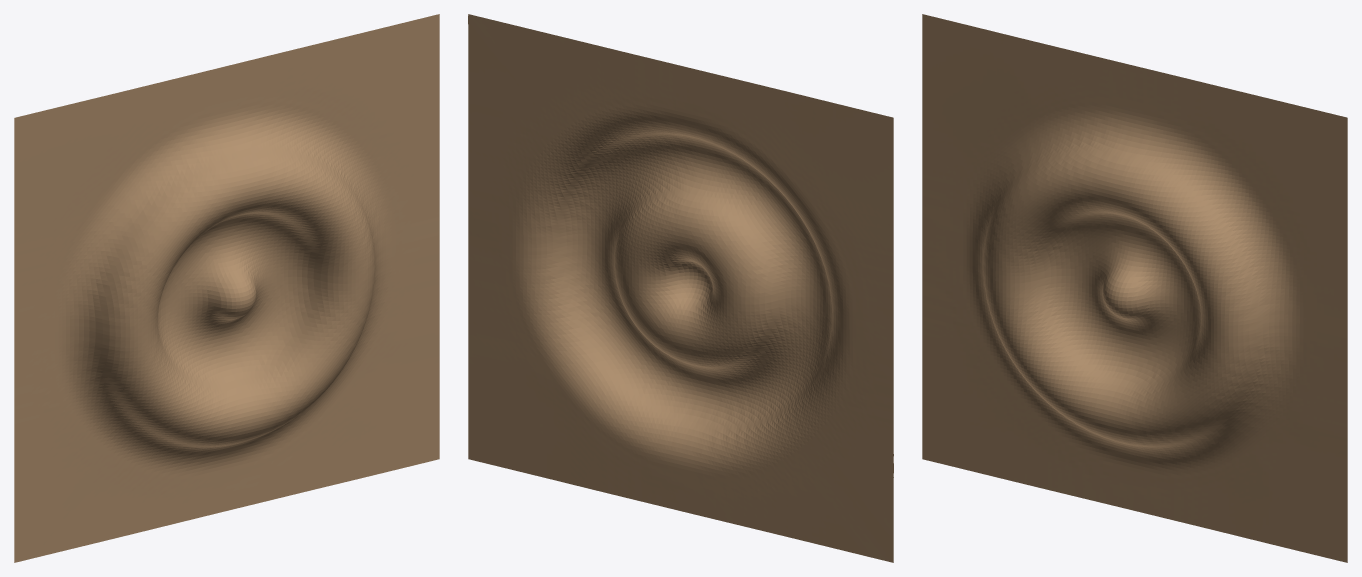
Rendered from droplet.glb.
3 renders of one model, left to right at view 1: azimuth 30°, elevation 25°; view 2: azimuth 150°, elevation 25°; view 3: azimuth 330°, elevation 25°, orthographic.
Parts seen in each view (by area): view 1: concave_wave_20260114; view 2: concave_wave_20260114; view 3: concave_wave_20260114.
Boxes of the visible parts, box(x1,y1,x2,y2) form: concave_wave_20260114: box(14, 14, 439, 562); concave_wave_20260114: box(468, 14, 893, 562); concave_wave_20260114: box(922, 14, 1347, 562).
Bounding box in the file's own units: 1.25 × 1.25 × 0.1301.
